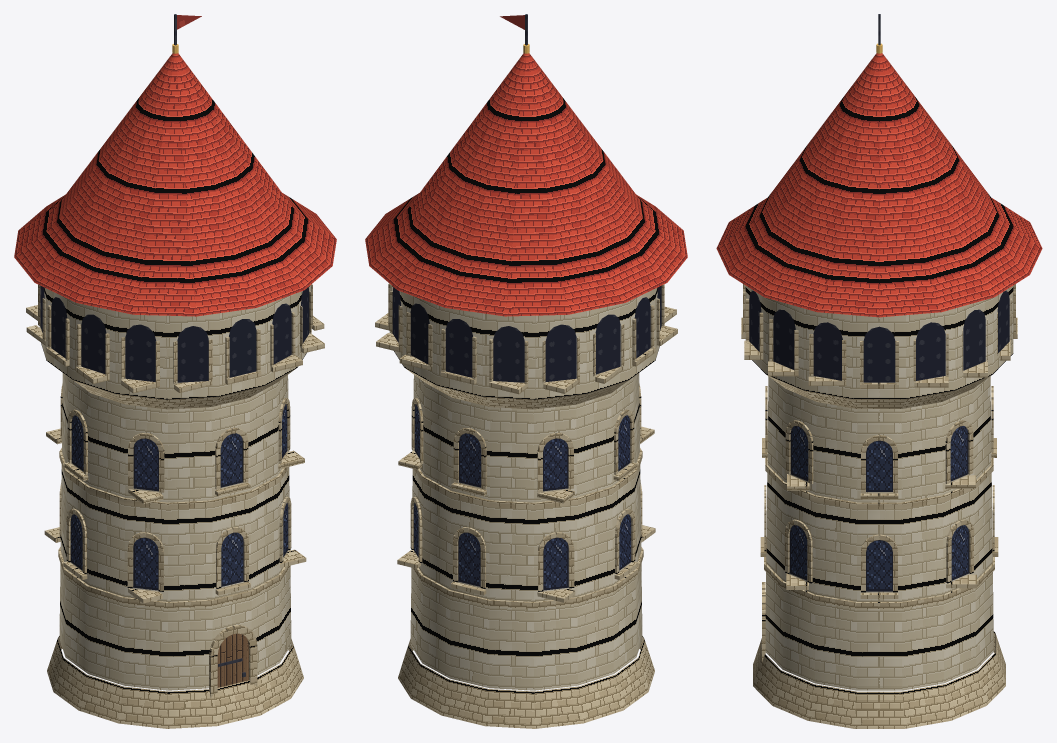
File: med_round_tower_2.glb
3 views of the same model, side by side, from view 1: azimuth 30°, elevation 25°; view 2: azimuth 150°, elevation 25°; view 3: azimuth 270°, elevation 25° (orthographic).
Parts seen in each view (by area): view 1: med_round_tower_3; view 2: med_round_tower_3; view 3: med_round_tower_3.
Boxes of the visible parts, x1,y1,x2,y2 form: med_round_tower_3: [14, 14, 336, 728]; med_round_tower_3: [365, 14, 687, 728]; med_round_tower_3: [716, 14, 1042, 728].
Size of the model in its own units: 8.96 by 20.05 by 8.96.
9 materials, 9 textured.
